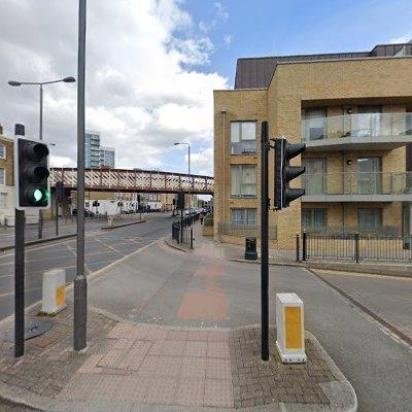moving-car: (70, 206, 96, 218)
